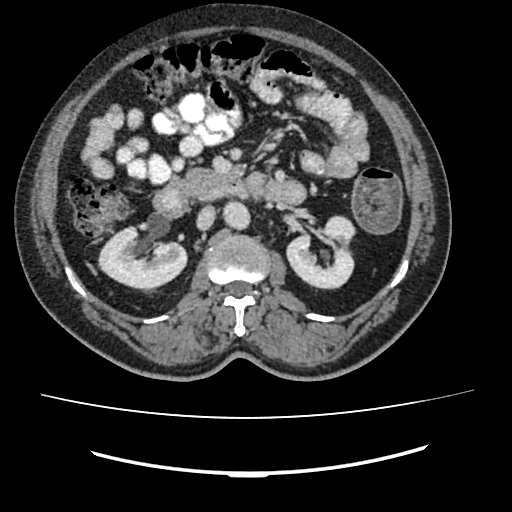aorta: (222, 200, 250, 232)
